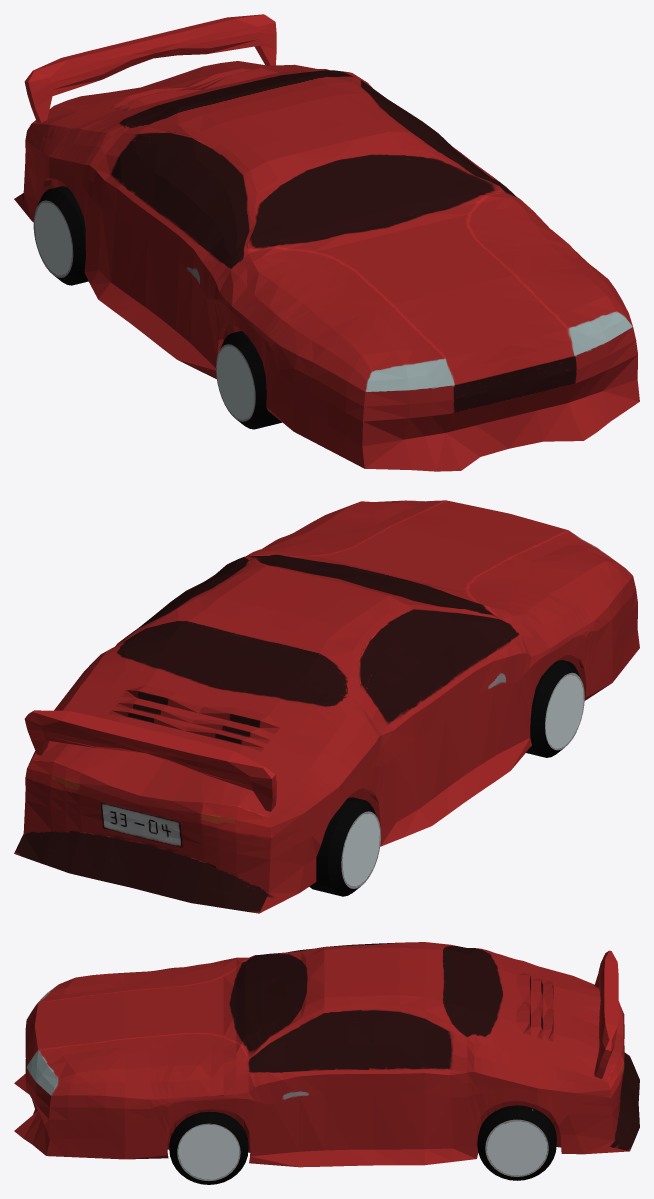
File: CarPlayer.obj
3 renders of one model, top to bottom at view 1: azimuth 30°, elevation 25°; view 2: azimuth 150°, elevation 25°; view 3: azimuth 270°, elevation 25°, orthographic. The views are drawn at different scales.
Parts seen in each view (by area): view 1: Cube, 立方体_立方体.001, 円柱.001_円柱.003; view 2: Cube, 円柱.001_円柱.003, 立方体_立方体.001; view 3: Cube, 円柱.001_円柱.003, 立方体_立方体.001.
Part boxes in pixels (bbox=[...]): Cube: bbox=[14, 61, 639, 471]; 立方体_立方体.001: bbox=[24, 14, 276, 122]; 円柱.001_円柱.003: bbox=[33, 186, 282, 429]; Cube: bbox=[14, 500, 639, 913]; 円柱.001_円柱.003: bbox=[309, 660, 584, 896]; 立方体_立方体.001: bbox=[24, 710, 276, 811]; Cube: bbox=[14, 942, 639, 1167]; 円柱.001_円柱.003: bbox=[169, 1105, 556, 1184]; 立方体_立方体.001: bbox=[594, 950, 618, 1078].
Bounding box in the file's own units: 2.72 × 1.5 × 5.54.
Materials: 3 (3 with a texture image).
